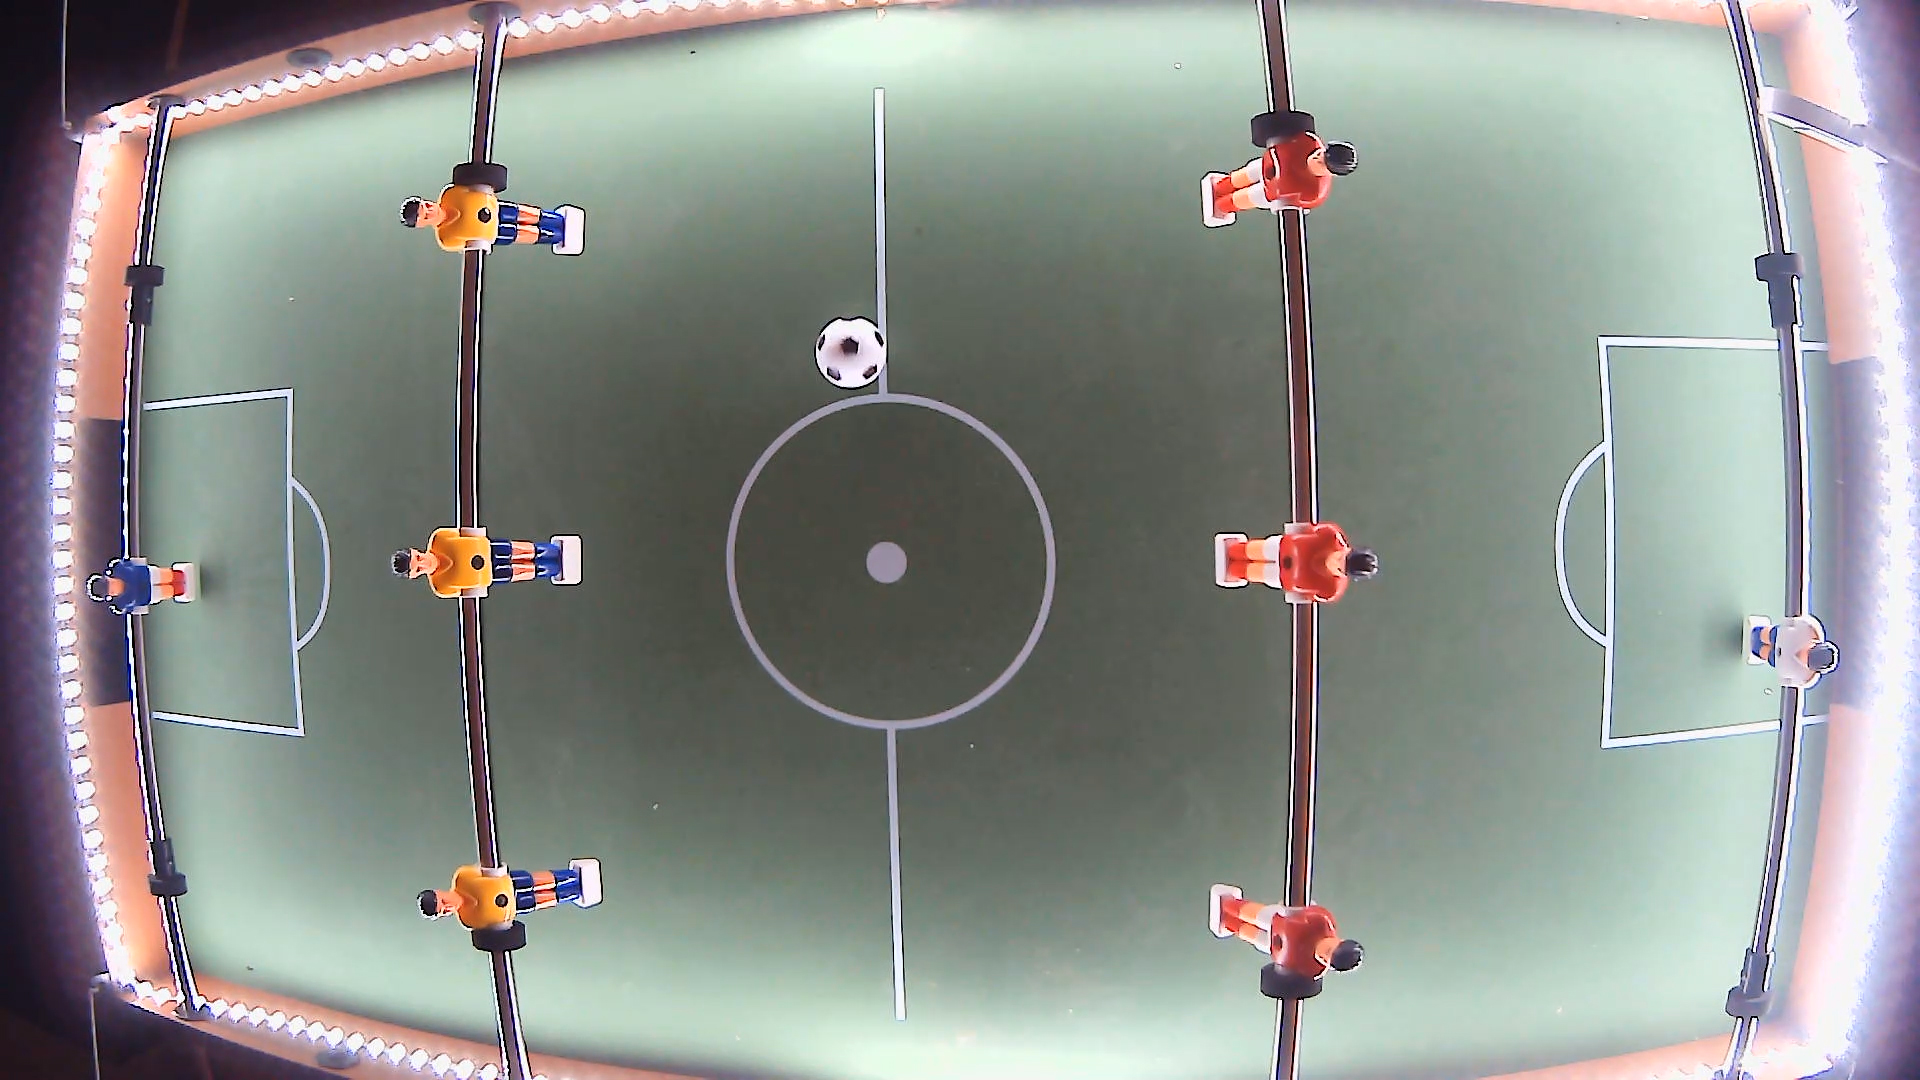Foosball: (814, 316, 887, 390)
